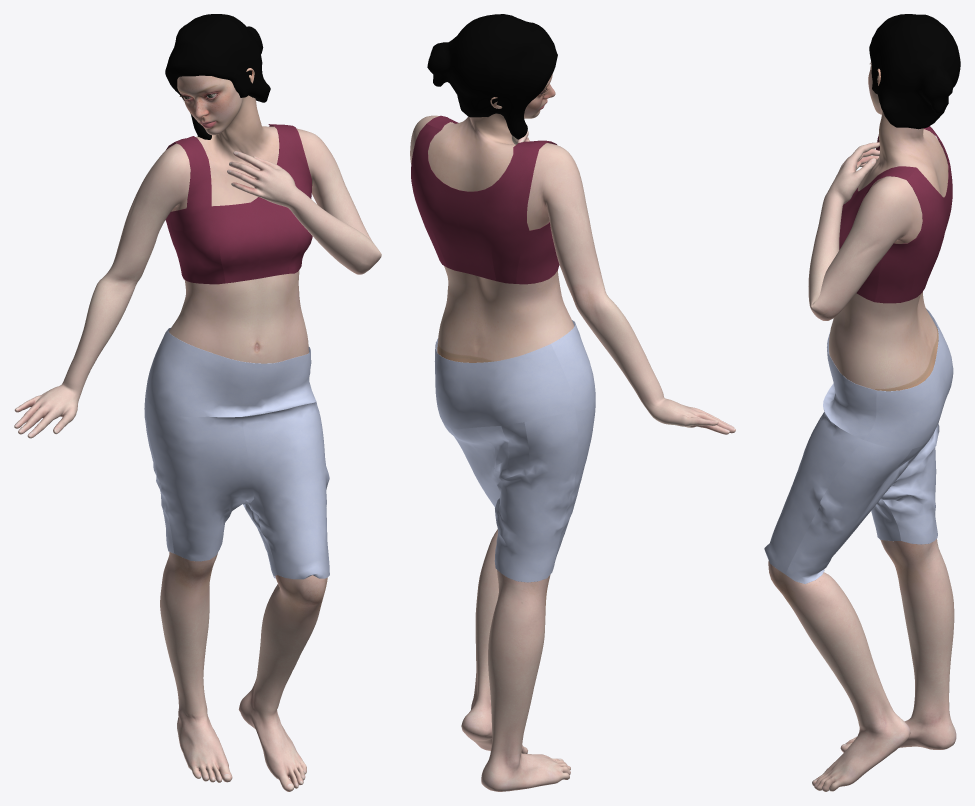
File: Dramatic.obj
3 views of the same model, side by side, from view 1: azimuth 30°, elevation 25°; view 2: azimuth 150°, elevation 25°; view 3: azimuth 270°, elevation 25° (orthographic). The views are drawn at different scales.
Size of the model in its own units: 813 by 1767 by 417.
